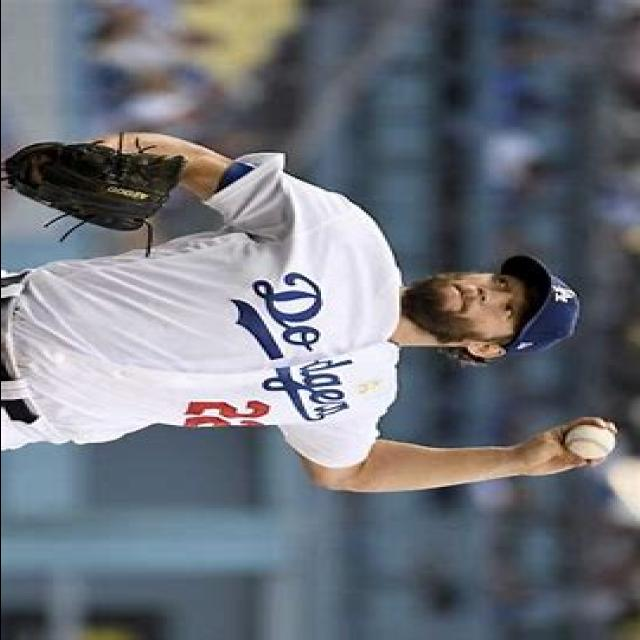ball: (560, 423, 617, 461)
glove: (0, 129, 188, 260)
